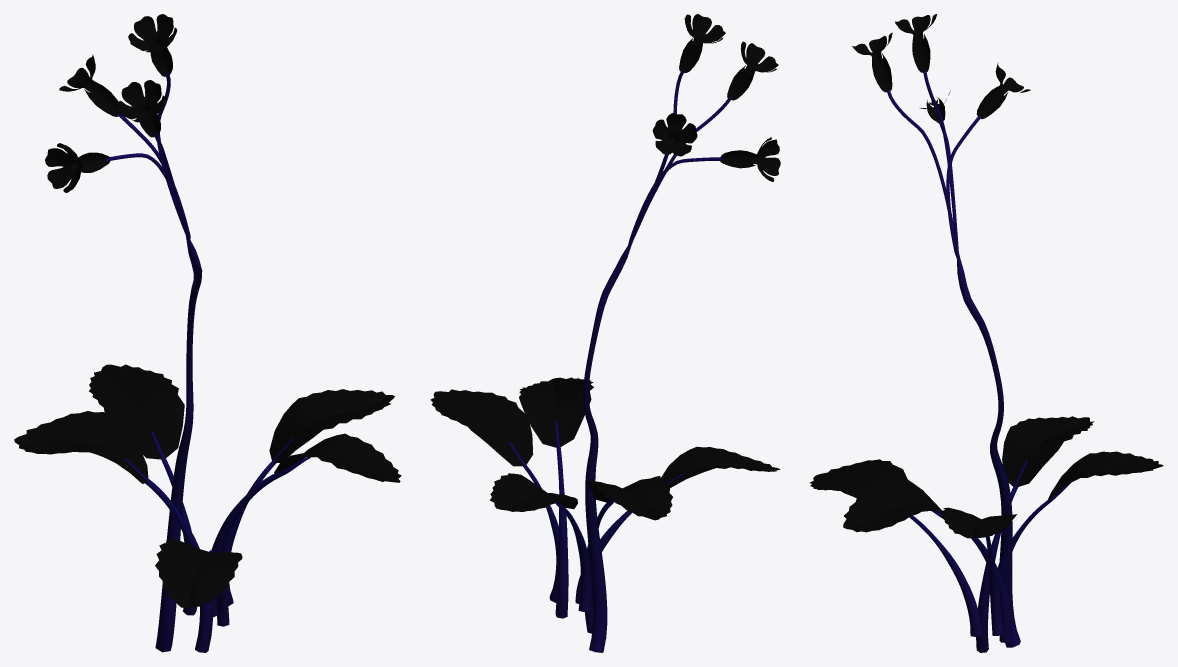
The model's file is Open Cowslip.fbx.
3 views of the same model, side by side, from view 1: azimuth 30°, elevation 25°; view 2: azimuth 150°, elevation 25°; view 3: azimuth 270°, elevation 25° (orthographic). The views are drawn at different scales.
Visible parts, largest first — view 1: Final Objcet; view 2: Final Objcet; view 3: Final Objcet.
Part boxes in pixels (x1=…): Final Objcet: x1=14, y1=14, x2=401, y2=652; Final Objcet: x1=430, y1=14, x2=780, y2=652; Final Objcet: x1=809, y1=14, x2=1163, y2=652.
Size of the model in its own units: 1071 by 1940 by 1025.
